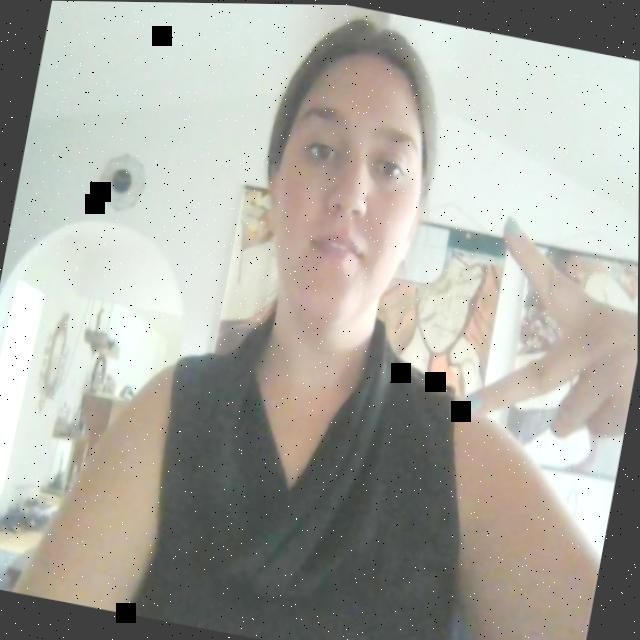Scissors: (444, 199, 639, 477)
